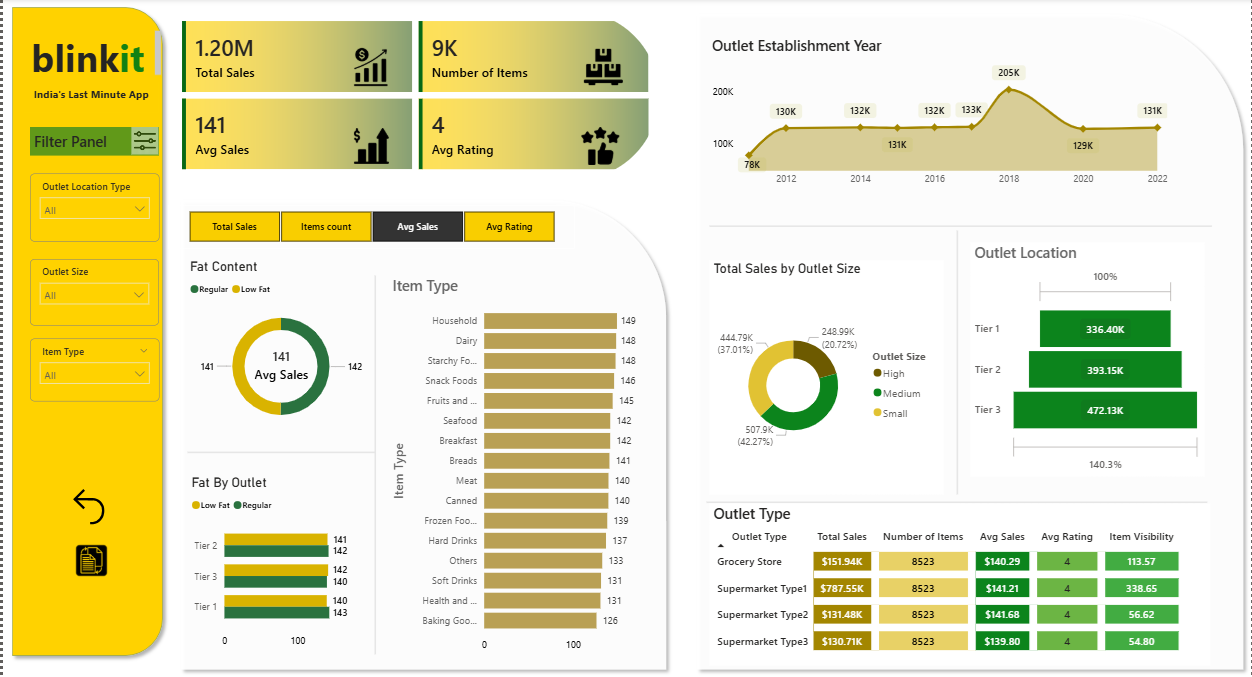

This screenshot's page, from the dashboard's own definition file:
{"tool":"powerbi","page":{"name":"Page 1","canvas":[1600,870],"ordinal":0},"visuals":[{"type":"shape","box":[0,0,217.3,855.8],"z":0},{"type":"textbox","box":[17.6,37.3,190.2,70.6],"z":1000},{"type":"textbox","box":[27.5,107.8,172.5,39.2],"z":2000},{"type":"cardVisual","fields":{"Data":["BlinkIT Grocery Data.Total Sales","BlinkIT Grocery Data.Number of Items","BlinkIT Grocery Data.Average Sales","BlinkIT Grocery Data.Average Rating"]},"box":[211.7,11.7,635,226.7],"z":3000},{"type":"image","box":[418.3,63.3,105,50],"z":4000},{"type":"image","box":[730,165,70,48.3],"z":5000},{"type":"image","box":[733.3,63.3,73.3,50],"z":6000},{"type":"image","box":[441.7,165,60,48.3],"z":7000},{"type":"shape","box":[218.3,250,640,620],"z":8000},{"type":"slicer","fields":{"Values":["Metrics .Metrics "]},"box":[211.5,265.4,521.2,55.8],"z":9000},{"type":"donutChart","title":"Fat Content","fields":{"Y":["BlinkIT Grocery Data.Avg Sales"],"Category":["BlinkIT Grocery Data.Item Fat Content"]},"box":[234.3,334.3,242.9,228.6],"z":10000},{"type":"cardVisual","fields":{"Data":["BlinkIT Grocery Data.Avg Sales"]},"box":[285.7,422.9,141.4,94.3],"z":11000},{"type":"clusteredBarChart","title":"Fat By Outlet","fields":{"Y":["BlinkIT Grocery Data.Avg Sales"],"Category":["BlinkIT Grocery Data.Outlet Location Type"],"Series":["BlinkIT Grocery Data.Item Fat Content"]},"box":[235.7,611.4,220,230],"z":12000},{"type":"shape","box":[236.7,470,241.7,226.7],"z":13000},{"type":"shape","box":[361.4,355.7,231.4,485.7],"z":14000},{"type":"barChart","title":"Item Type","fields":{"Y":["BlinkIT Grocery Data.Avg Sales"],"Category":["BlinkIT Grocery Data.Item Type"]},"box":[495,355,331.7,491.7],"z":15000},{"type":"shape","box":[881.7,11.7,718.3,858.3],"z":16000},{"type":"lineChart","title":"Outlet Establishment Year","fields":{"Category":["BlinkIT Grocery Data.Outlet Establishment Year"],"Y":["BlinkIT Grocery Data.Total Sales"]},"box":[904.2,47.9,593.8,202.1],"z":17000},{"type":"funnel","title":"Outlet Location","fields":{"Category":["BlinkIT Grocery Data.Outlet Location Type"],"Y":["BlinkIT Grocery Data.Total Sales"]},"box":[1240,314,300,300],"z":18000},{"type":"shape","box":[1108.3,298.3,231.7,338.3],"z":19000},{"type":"shape","box":[902,562,642,170],"z":20000},{"type":"shape","box":[906,136,644,312],"z":21000},{"type":"pivotTable","title":"Outlet Type","fields":{"Rows":["BlinkIT Grocery Data.Outlet Type"],"Values":["BlinkIT Grocery Data.Total Sales","BlinkIT Grocery Data.Number of Items","BlinkIT Grocery Data.Avg Sales","BlinkIT Grocery Data.Avg Rating","Sum(BlinkIT Grocery Data.Item Visibility)"]},"box":[906,648,642,208],"z":22000},{"type":"slicer","fields":{"Values":["BlinkIT Grocery Data.Outlet Size"]},"box":[35,335,165,85],"z":23000},{"type":"textbox","box":[35,165,165,36.7],"z":24000},{"type":"image","box":[151.7,165,60,35],"z":25000},{"type":"actionButton","box":[70,624,82,58],"z":26000},{"type":"actionButton","box":[88,696,148,50],"z":27000},{"type":"slicer","fields":{"Values":["ItemType_Slicer.Item Type"]},"box":[34,436.2,166,80.9],"z":28000},{"type":"slicer","fields":{"Values":["BlinkIT Grocery Data.Outlet Location Type"]},"box":[34,225.5,166,87.2],"z":29000},{"type":"donutChart","fields":{"Y":["BlinkIT Grocery Data.Total Sales"],"Category":["BlinkIT Grocery Data.Outlet Size"]},"box":[906.4,336.2,300,300],"z":30000}]}

Visuals, with their boxes in screenshot pixels (x1, y1, x2, y2), scaled from the page's 1600x870 canvas onto the 1252x677 screenshot:
shape: 0/0/170/666
textbox: 14/29/163/84
textbox: 22/84/156/114
cardVisual - BlinkIT Grocery Data.Total Sales x BlinkIT Grocery Data.Number of Items: 166/9/663/186
image: 327/49/409/88
image: 571/128/626/166
image: 574/49/631/88
image: 346/128/393/166
shape: 171/195/672/676
slicer - Metrics .Metrics : 165/207/573/250
"Fat Content" donutChart: 183/260/373/438
cardVisual - BlinkIT Grocery Data.Avg Sales: 224/329/334/402
"Fat By Outlet" clusteredBarChart: 184/476/357/655
shape: 185/366/374/542
shape: 283/277/464/655
"Item Type" barChart: 387/276/647/659
shape: 690/9/1251/676
"Outlet Establishment Year" lineChart: 708/37/1172/195
"Outlet Location" funnel: 970/244/1205/478
shape: 867/232/1049/495
shape: 706/437/1208/570
shape: 709/106/1213/349
"Outlet Type" pivotTable: 709/504/1211/666
slicer - BlinkIT Grocery Data.Outlet Size: 27/261/156/327
textbox: 27/128/156/157
image: 119/128/166/156
actionButton: 55/486/119/531
actionButton: 69/542/185/581
slicer - ItemType_Slicer.Item Type: 27/339/156/402
slicer - BlinkIT Grocery Data.Outlet Location Type: 27/175/156/243
donutChart - BlinkIT Grocery Data.Total Sales x BlinkIT Grocery Data.Outlet Size: 709/262/944/495
